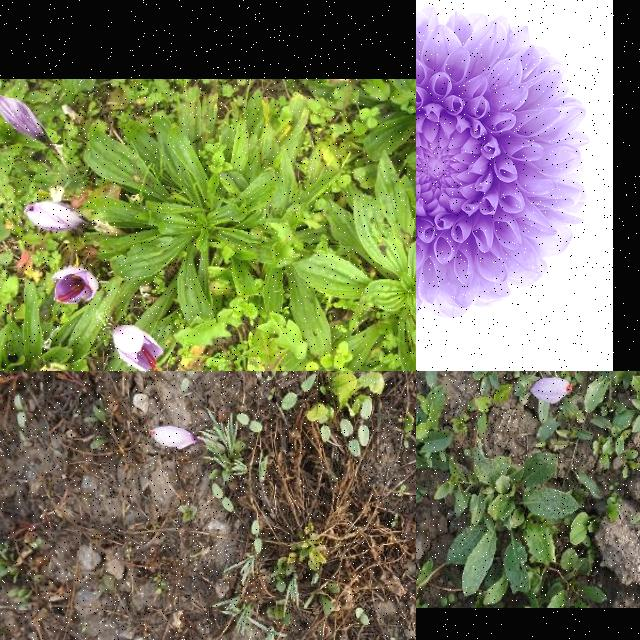flower: (0, 92, 55, 144), (113, 323, 165, 371), (24, 200, 92, 232), (50, 267, 100, 305), (147, 426, 199, 450), (529, 378, 573, 404)
